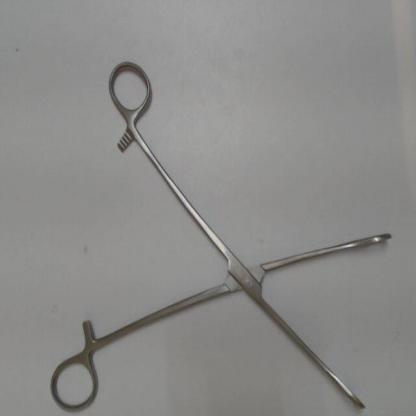Sponge Forceps: (49, 58, 396, 414)
